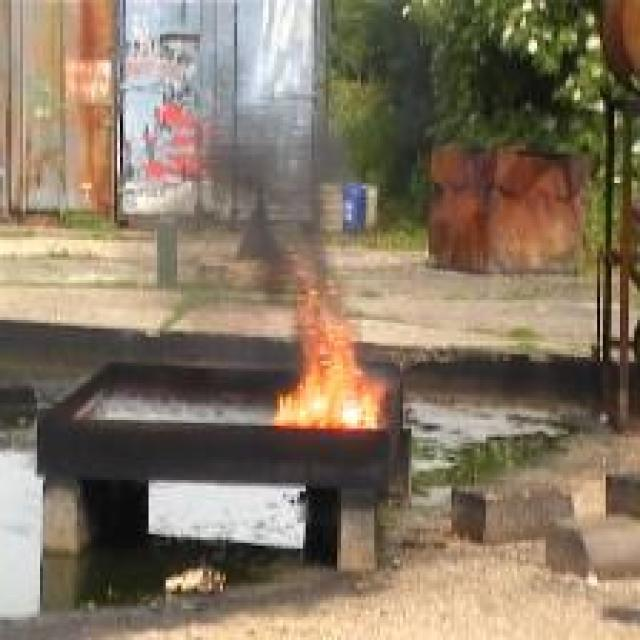Fire: (274, 248, 386, 428)
